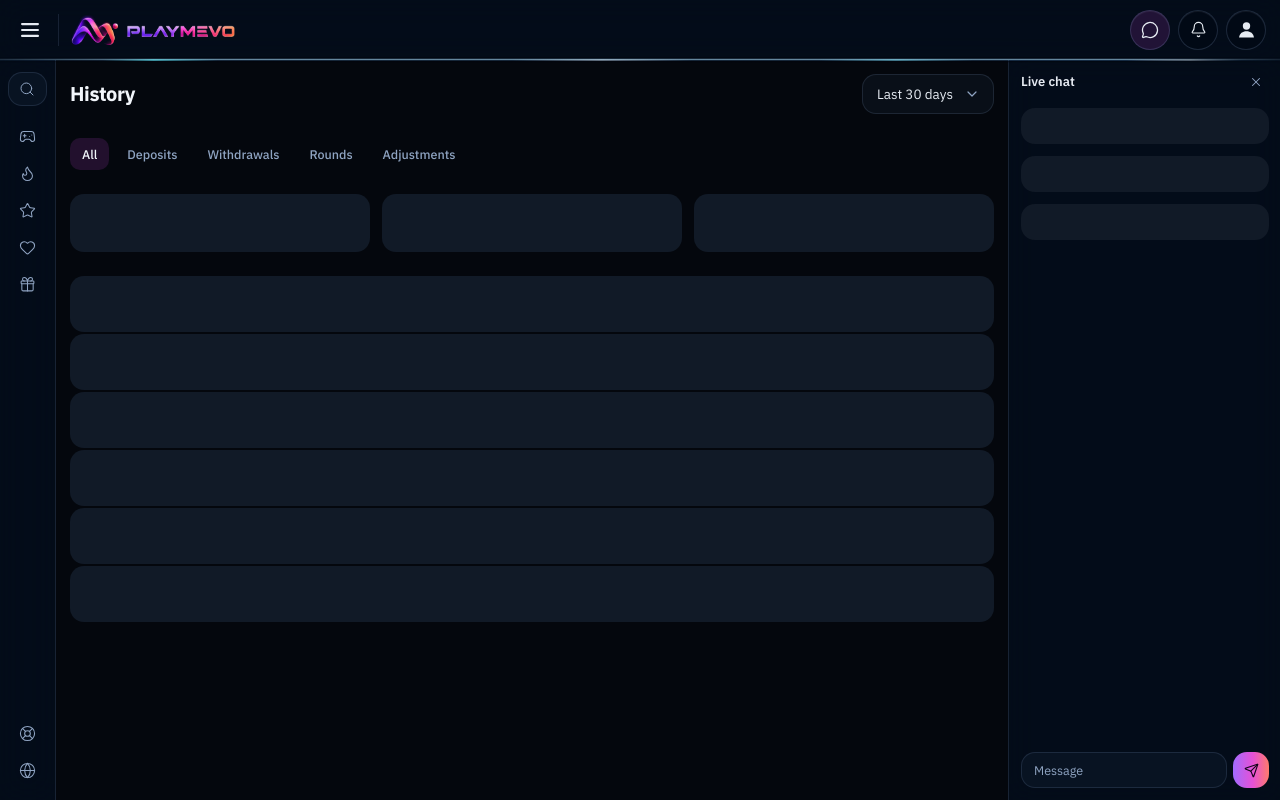
Test: history › shows paginated round records in the rounds tab
Click the tab "Rounds": click(331, 154) top-left (298, 138), bottom-right (365, 170)
(page scrolled)
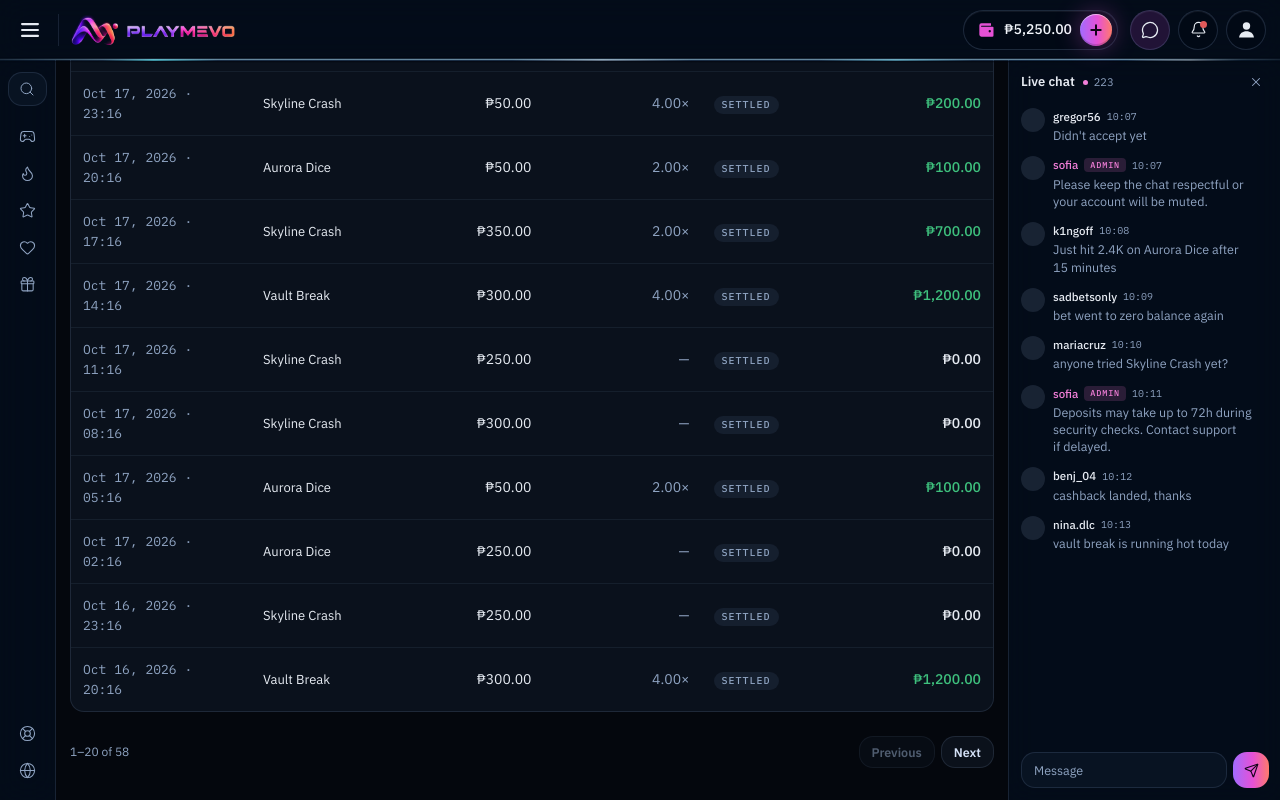
Expected: the navigation bar named "Pagination" is shown, top-left (70, 736), bottom-right (994, 768)
